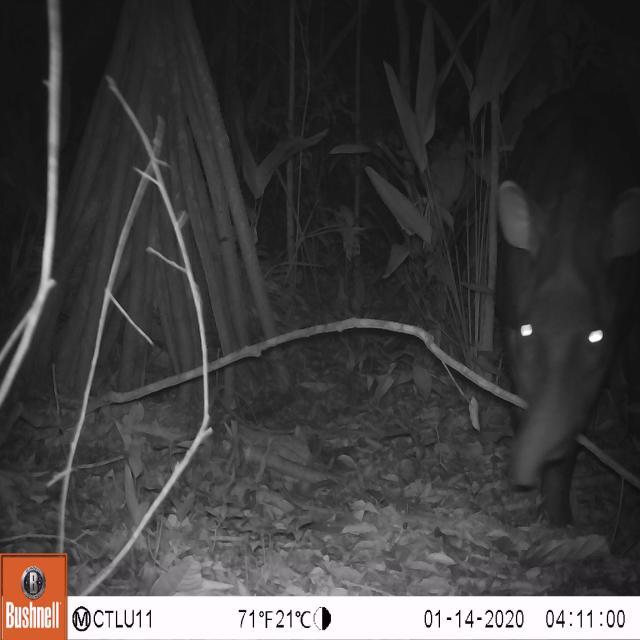Lowland Tapir: (445, 72, 640, 539)
